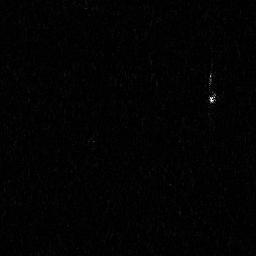ship: (207, 64, 218, 114)
